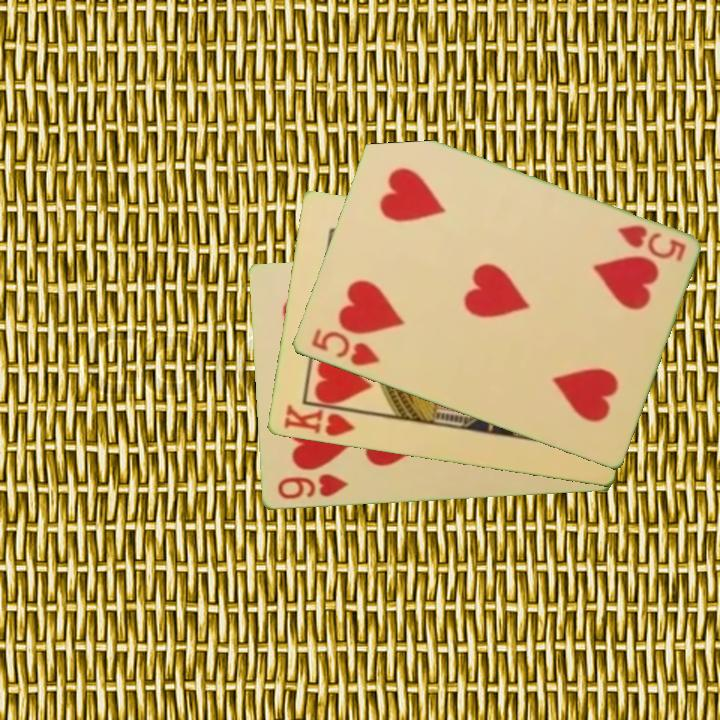5h: (307, 325, 383, 370), (613, 221, 689, 264)
9h: (274, 470, 350, 503)
Kh: (279, 400, 364, 440)
